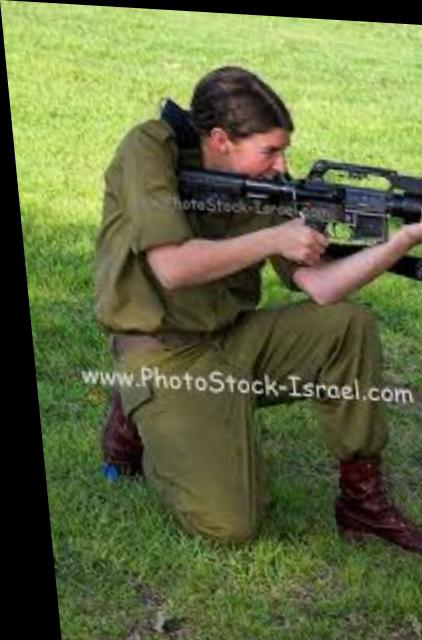other: (77, 70, 415, 570)
